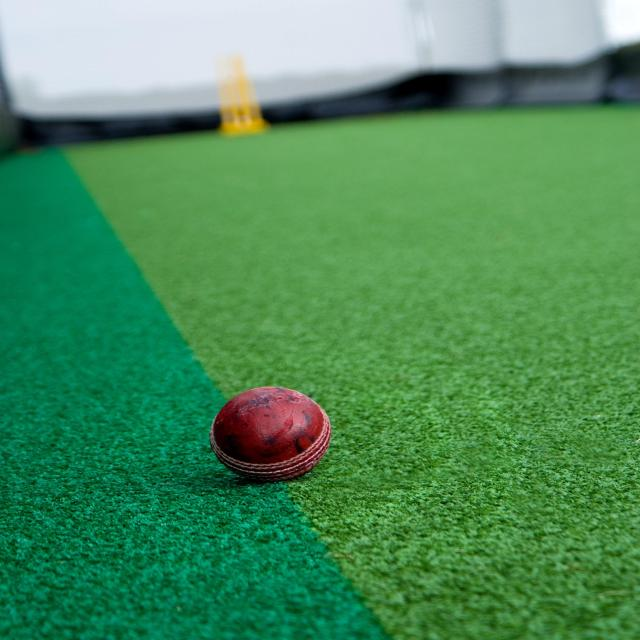Cricket ball: (208, 384, 334, 485)
